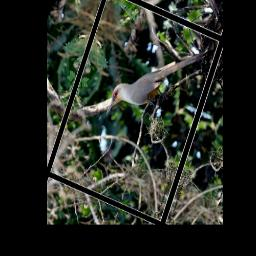Cuckoo: (104, 17, 210, 148)
